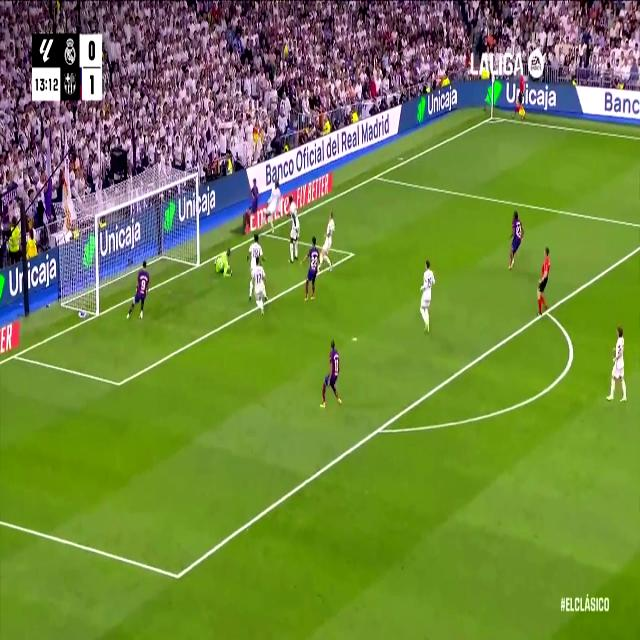bigarea_bottom_inner: (170, 558, 185, 593)
bigarea_bottom_outter: (542, 303, 552, 321)
bigarea_top_outter: (372, 168, 381, 185)
bottom_arc_area_intersection: (372, 414, 387, 444)
corner: (486, 110, 497, 124)
smallarea_bottom_inner: (114, 370, 125, 397)
smallarea_bottom_outter: (11, 346, 20, 364)
smallarea_top_inner: (346, 242, 357, 264)
smallarea_top_outter: (260, 227, 267, 239)
top_arc_area_intersection: (542, 303, 552, 321)
